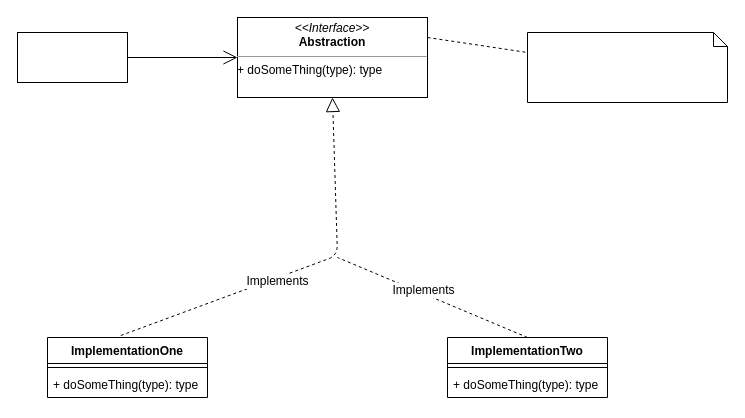
This 745x418 diagram has some shape labels left out. Here are the shapes that lost their labels. From the top down, the centre of each, then its label:
(x=72, y=57): Client
(x=627, y=67): Open for extension Closed for modification
